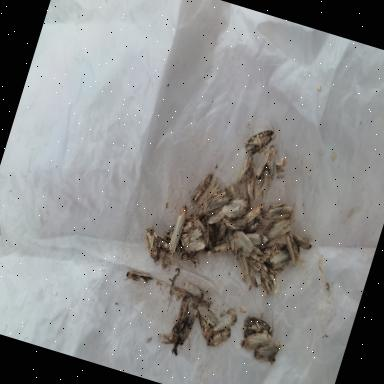pbw: (163, 199, 194, 262), (240, 116, 280, 162), (238, 302, 280, 344), (259, 208, 298, 252), (136, 222, 168, 264), (157, 213, 192, 247), (199, 186, 233, 220), (260, 194, 296, 226), (183, 204, 214, 240), (238, 324, 272, 356), (187, 168, 213, 208), (230, 148, 255, 189), (218, 192, 250, 224), (250, 336, 281, 368), (277, 232, 305, 264), (199, 178, 224, 213), (227, 226, 256, 256), (204, 322, 232, 352), (238, 166, 262, 201), (191, 313, 218, 343), (212, 307, 238, 337), (194, 299, 222, 326), (242, 242, 269, 270), (122, 266, 154, 288), (268, 246, 294, 272), (260, 268, 284, 296), (232, 254, 255, 283), (264, 145, 284, 178), (241, 198, 264, 226), (178, 224, 202, 250), (256, 168, 274, 202), (242, 229, 270, 250), (170, 309, 190, 337), (205, 238, 230, 260), (177, 314, 194, 346), (221, 213, 248, 232), (288, 232, 314, 251), (220, 180, 243, 201), (182, 280, 206, 300), (156, 328, 180, 348), (178, 250, 201, 270), (182, 236, 206, 255), (254, 148, 270, 176), (160, 243, 176, 270), (186, 296, 201, 324), (152, 234, 173, 254), (175, 296, 191, 320), (213, 222, 229, 246), (244, 217, 261, 235), (207, 210, 225, 227), (268, 154, 287, 168), (246, 270, 260, 288), (256, 172, 266, 196)
